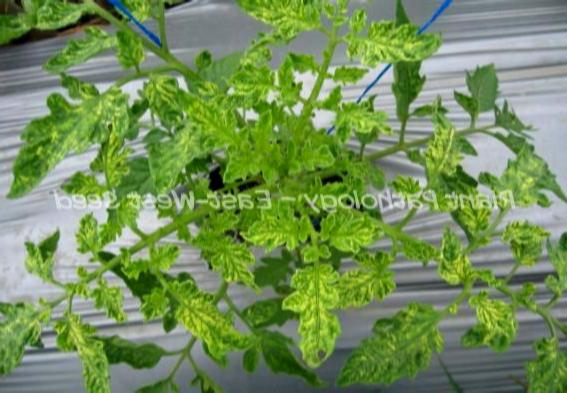Tomato leaf yellow virus: (9, 84, 112, 202), (339, 297, 445, 393), (173, 90, 273, 175), (161, 290, 266, 362), (343, 9, 440, 75), (290, 261, 342, 368), (57, 309, 118, 393), (191, 214, 257, 289), (491, 137, 559, 209), (216, 1, 329, 40), (10, 226, 75, 291), (40, 28, 128, 75), (414, 127, 470, 194), (151, 116, 201, 184), (334, 260, 400, 311), (501, 212, 547, 273), (462, 300, 515, 352), (318, 212, 380, 253), (243, 211, 304, 252), (435, 226, 473, 287), (336, 101, 391, 141), (71, 215, 109, 263)
